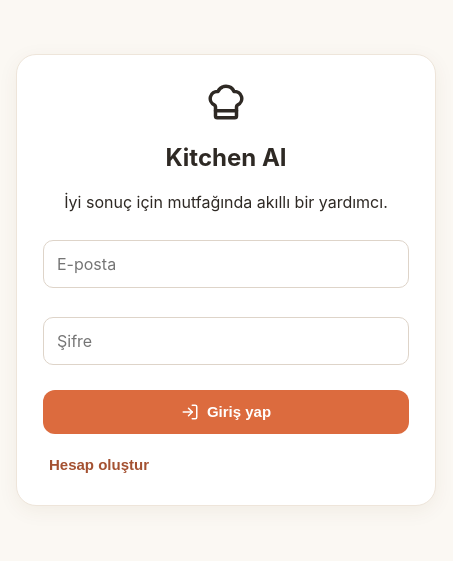
Test: Auth › shows only the name field in registration mode
Expected: the field with placeholder "Adın" is not shown
Click the button "Hesap oluştur": (99, 464) [43, 450, 155, 479]
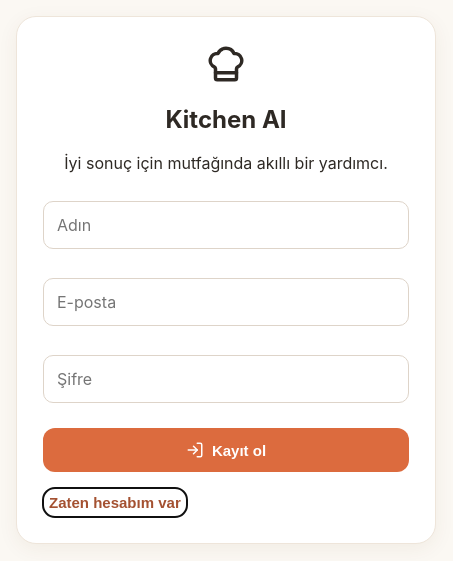
Result: the field with placeholder "Adın" is shown at [43, 201, 409, 249]
Click the button "Zaten hesabım var": (115, 503) [43, 488, 187, 517]
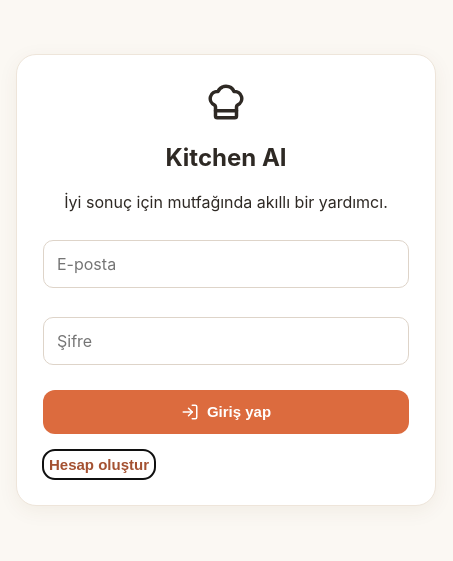
Result: the field with placeholder "Adın" is gone
